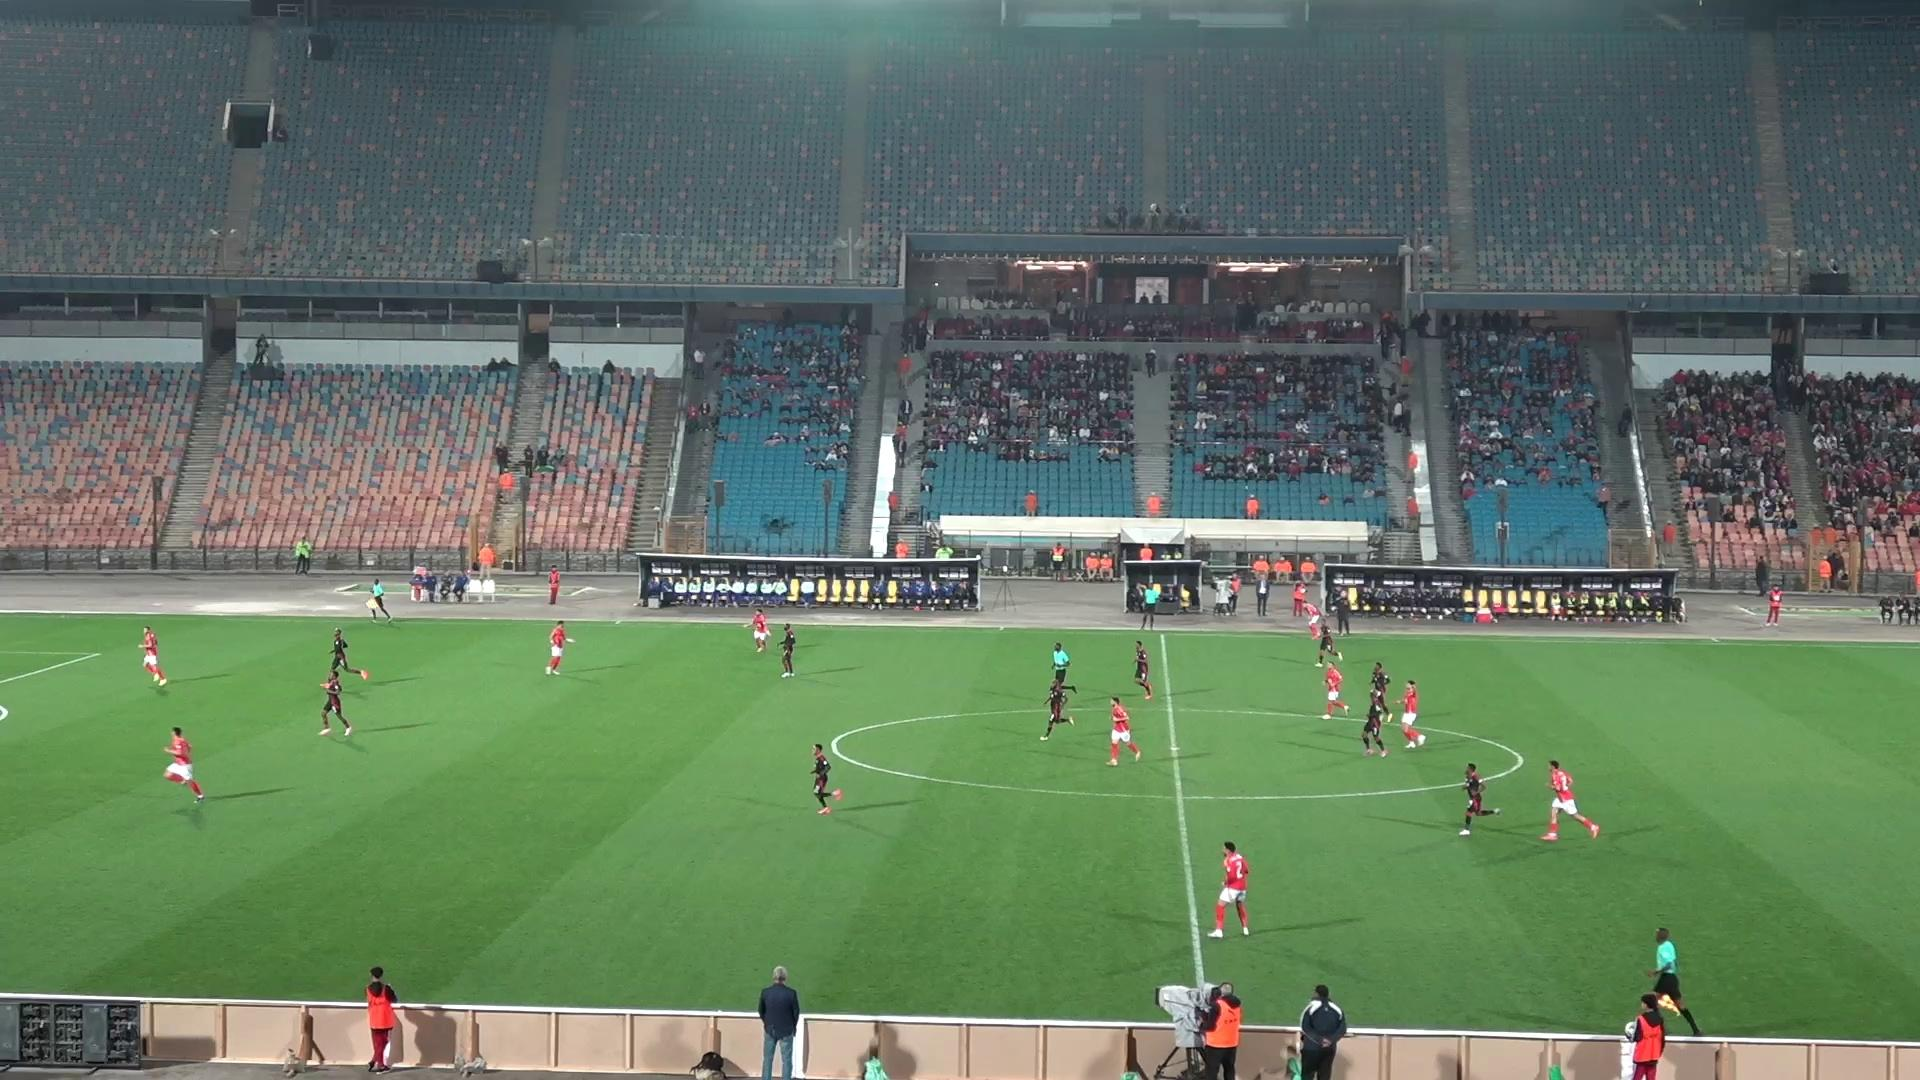Refree: (1650, 928, 1701, 1036), (1135, 574, 1160, 628), (365, 579, 393, 621), (1048, 641, 1071, 684)
Team1: (1540, 761, 1600, 841), (1207, 841, 1251, 940), (164, 727, 203, 802), (1106, 698, 1139, 765), (1316, 661, 1348, 719), (138, 626, 167, 688), (1399, 680, 1425, 748), (543, 620, 574, 675), (746, 608, 771, 651)
Team2: (1458, 764, 1498, 835), (324, 628, 371, 686), (1040, 669, 1076, 740), (811, 744, 843, 815), (318, 673, 352, 735), (1360, 690, 1389, 756), (1309, 618, 1342, 665), (1131, 640, 1155, 700), (1367, 661, 1391, 715), (779, 624, 795, 676)
